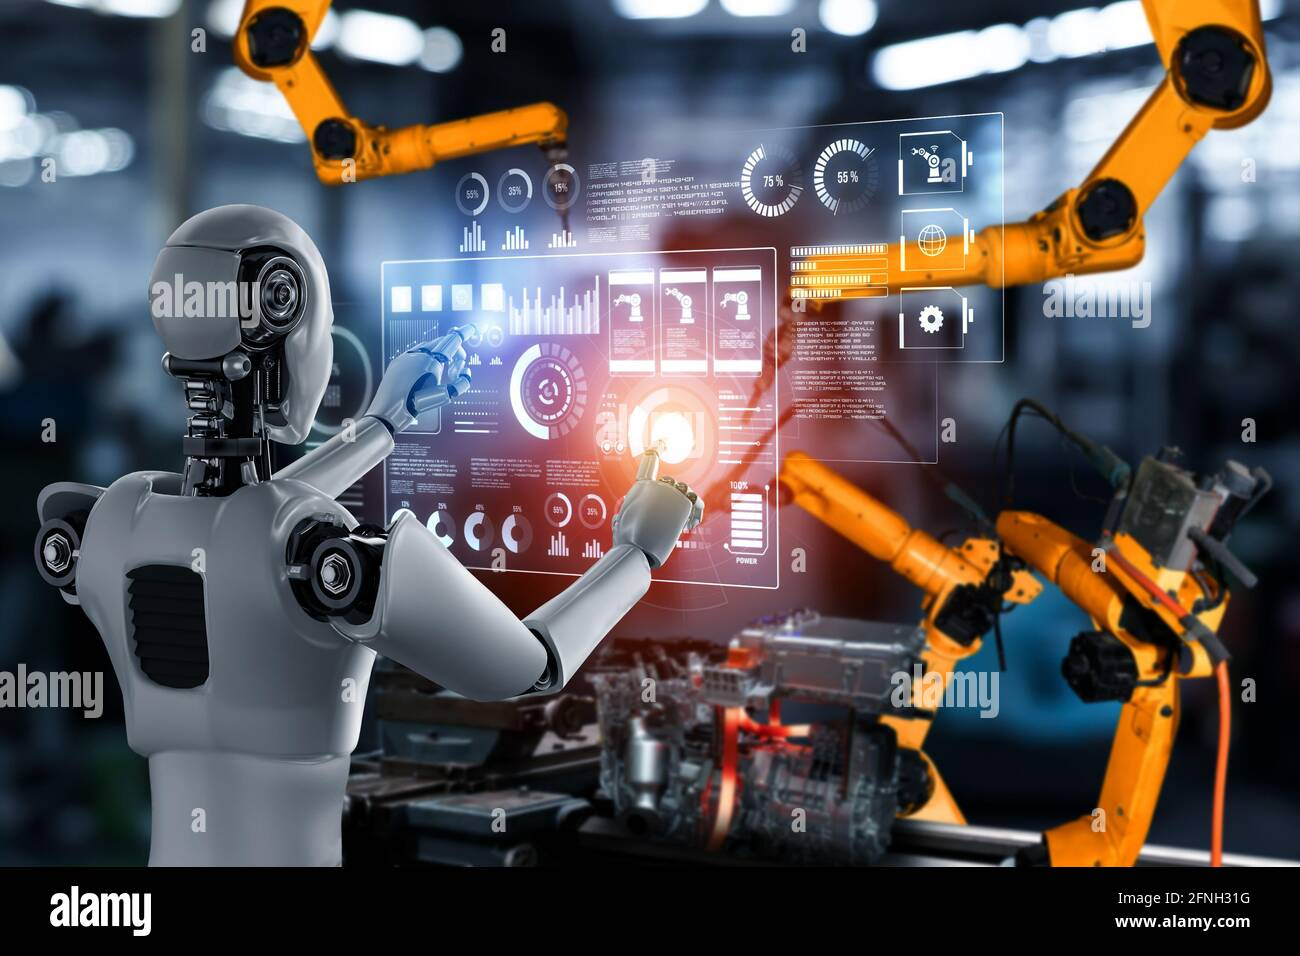robot: (741, 1, 1273, 425), (678, 387, 1041, 839), (946, 405, 1267, 886), (229, 1, 586, 245)
